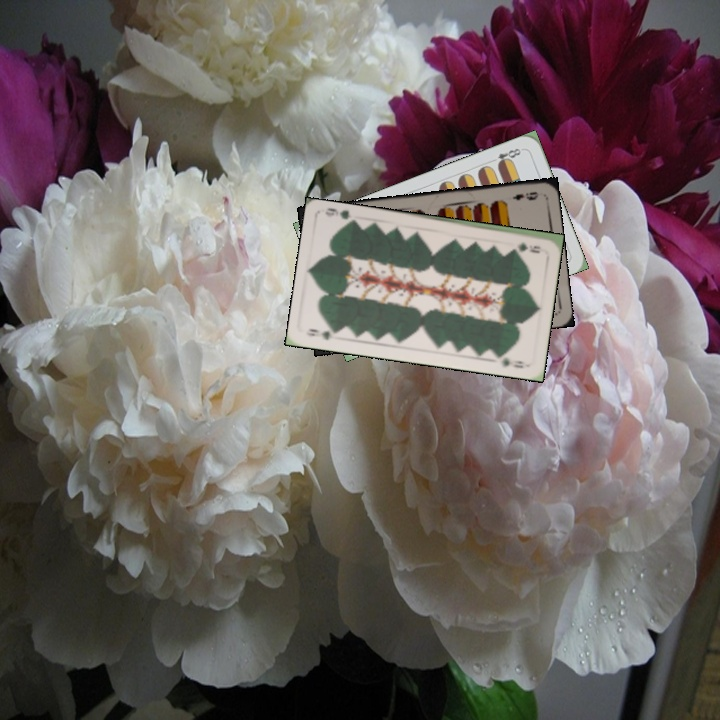E8: (487, 144, 526, 169)
E9: (508, 188, 542, 203)
G9: (302, 325, 343, 343), (514, 238, 543, 254)
